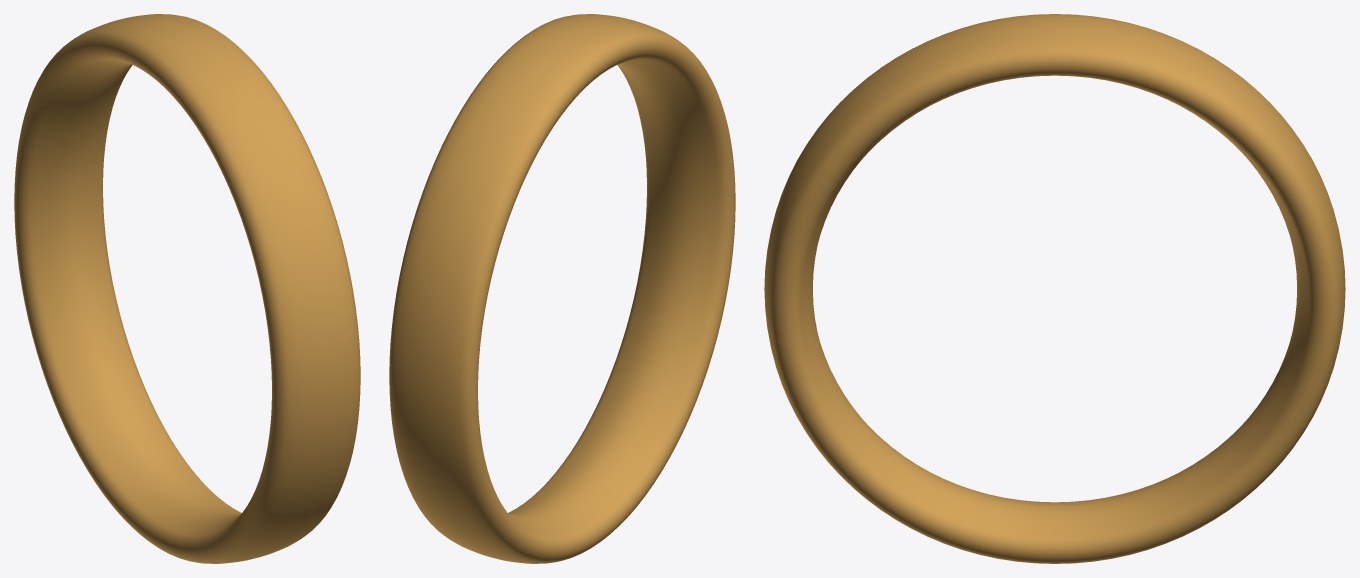
3 renders of one model, left to right at view 1: azimuth 30°, elevation 25°; view 2: azimuth 150°, elevation 25°; view 3: azimuth 270°, elevation 25°, orthographic. The views are drawn at different scales.
Parts seen in each view (by area): view 1: Ring 2.001; view 2: Ring 2.001; view 3: Ring 2.001.
Part boxes in pixels (bbox=[...]): Ring 2.001: bbox=[14, 14, 360, 563]; Ring 2.001: bbox=[389, 14, 735, 563]; Ring 2.001: bbox=[764, 14, 1345, 563].
Size of the model in its own units: 0.00333 by 0.019 by 0.019.
